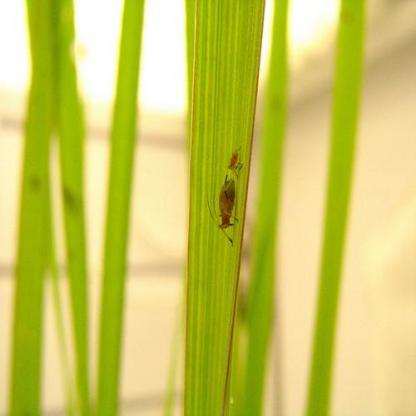aphid: (204, 172, 244, 248), (219, 146, 251, 181)
